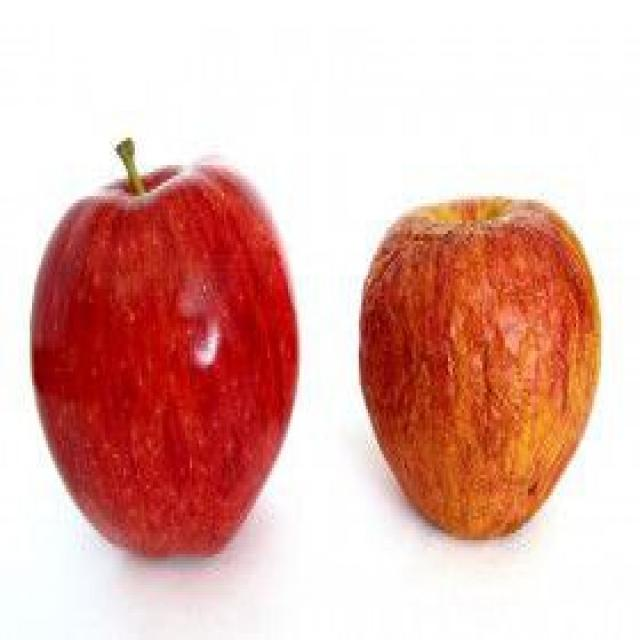fresh_apple: (31, 165, 298, 561)
rotten_apple: (358, 198, 600, 542)
